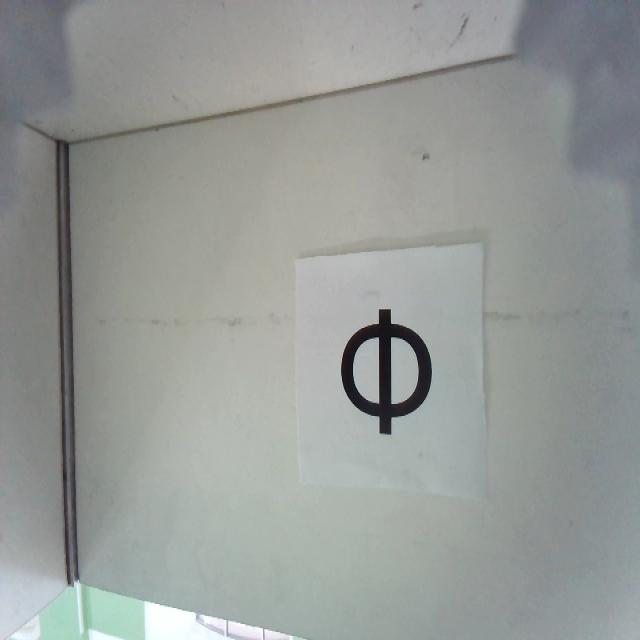F: (341, 308, 434, 433)
